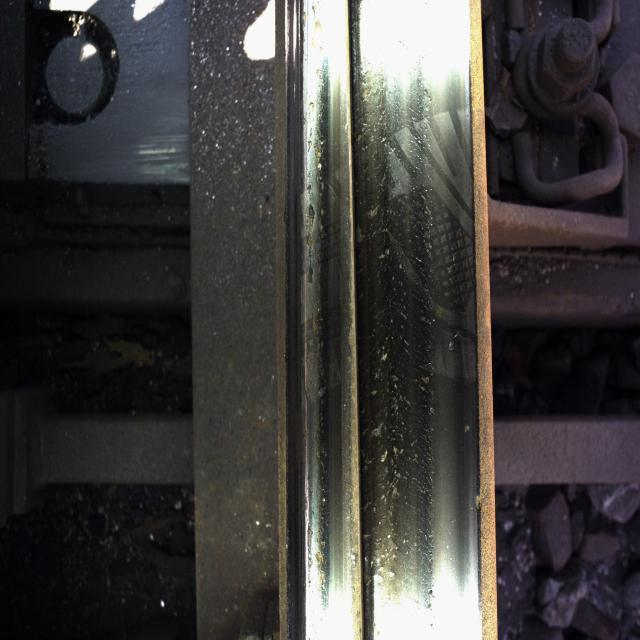scar: (363, 51, 472, 604)
